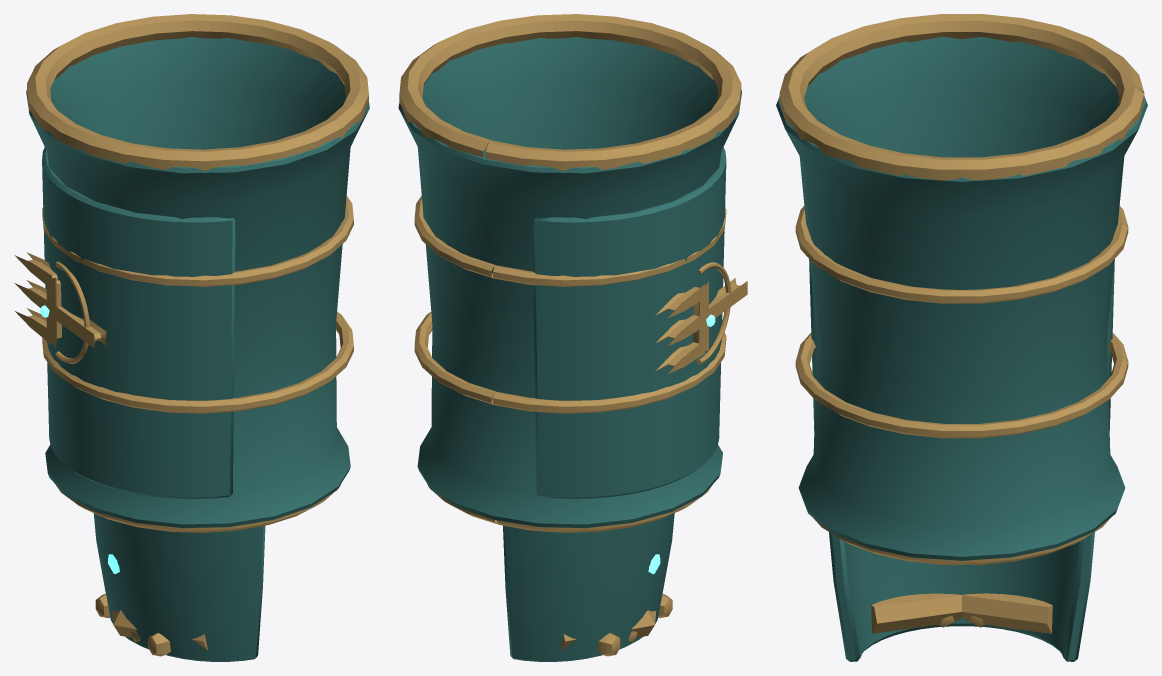
The model's file is boss_sunken_crown_gloves_2.glb.
3 views of the same model, side by side, from view 1: azimuth 30°, elevation 25°; view 2: azimuth 150°, elevation 25°; view 3: azimuth 270°, elevation 25° (orthographic). The views are drawn at different scales.
Visible parts, largest first — view 1: boss_sunken_crown_gloves_2, AT_hand_R; view 2: boss_sunken_crown_gloves_2, AT_hand_R; view 3: boss_sunken_crown_gloves_2, AT_hand_R.
Part boxes in pixels (<box>): boss_sunken_crown_gloves_2: <box>14,14,369,532</box>; AT_hand_R: <box>93,513,265,661</box>; boss_sunken_crown_gloves_2: <box>398,14,747,532</box>; AT_hand_R: <box>503,513,674,661</box>; boss_sunken_crown_gloves_2: <box>776,14,1147,564</box>; AT_hand_R: <box>829,532,1094,661</box>.
Size of the model in its own units: 0.1981 by 0.3408 by 0.2004.
